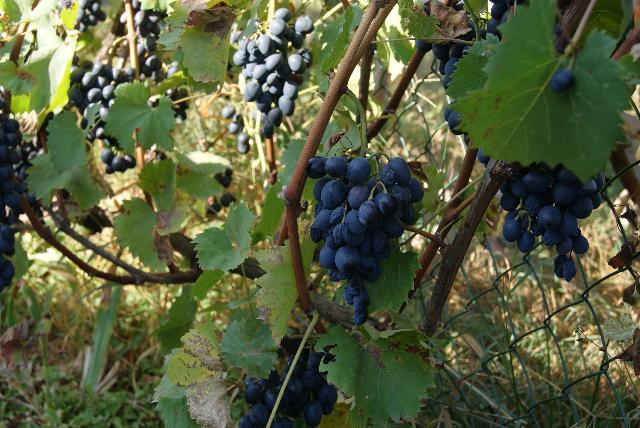grapes: (305, 156, 424, 325), (232, 7, 314, 139)
